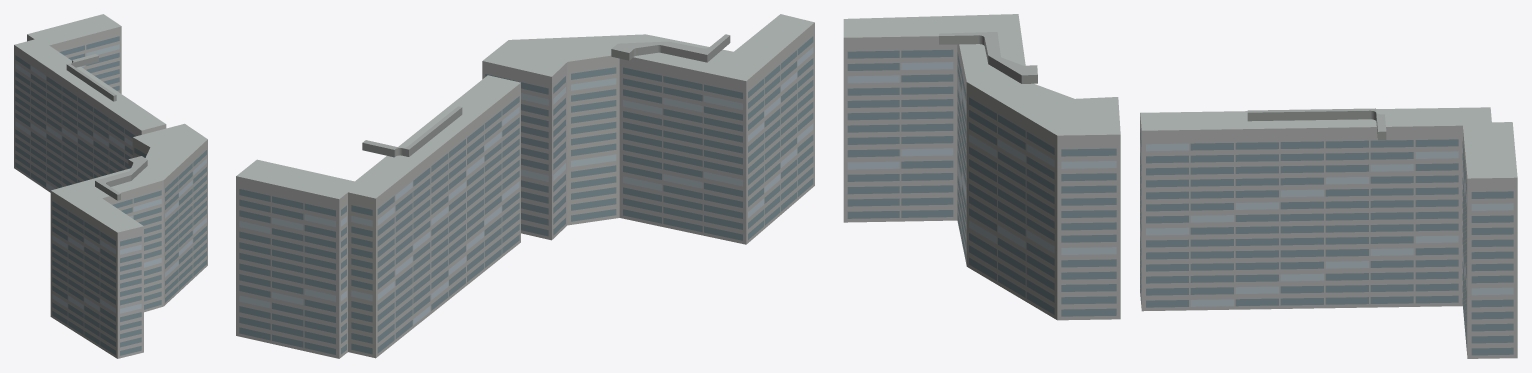
Rendered from apt-a12201001.glb.
3 views of the same model, side by side, from view 1: azimuth 30°, elevation 25°; view 2: azimuth 150°, elevation 25°; view 3: azimuth 270°, elevation 25° (orthographic). The views are drawn at different scales.
Parts seen in each view (by area): view 1: apt-a12201001; view 2: apt-a12201001; view 3: apt-a12201001.
Boxes of the visible parts, x1,y1,x2,y2 form: apt-a12201001: (14, 14, 207, 358); apt-a12201001: (236, 14, 814, 358); apt-a12201001: (843, 14, 1517, 358).
Bounding box in the file's own units: 76.41 × 43 × 136.
